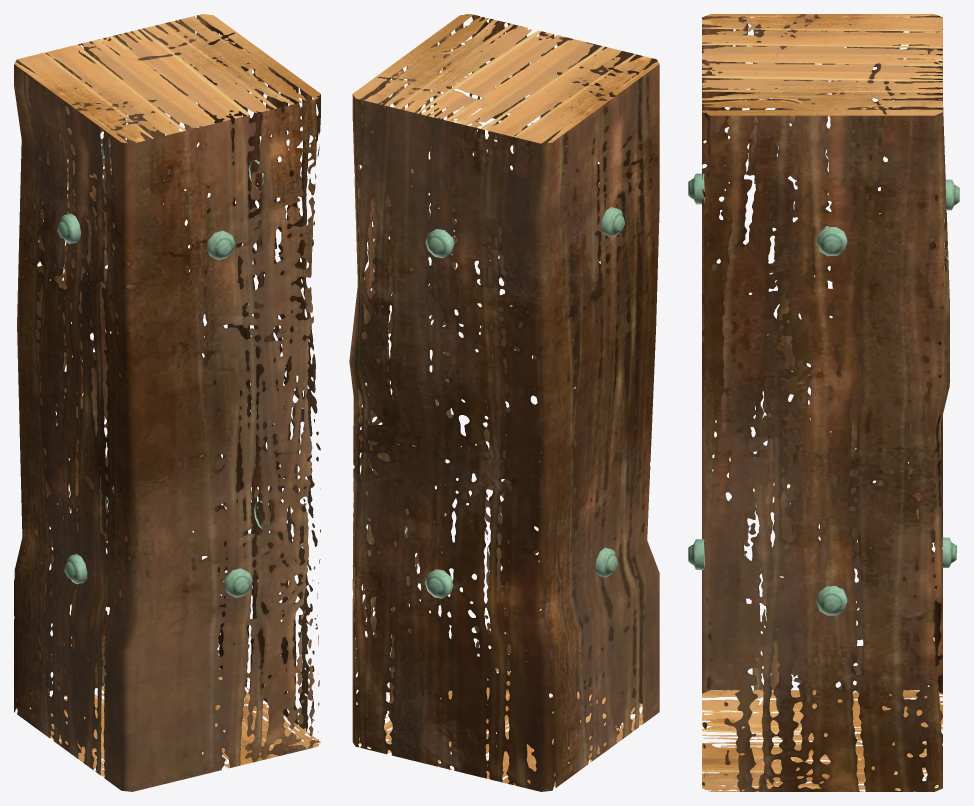
3 renders of one model, left to right at view 1: azimuth 30°, elevation 25°; view 2: azimuth 150°, elevation 25°; view 3: azimuth 270°, elevation 25°, orthographic. The views are drawn at different scales.
Parts seen in each view (by area): view 1: SM_BB_T4_Beam_Thick_Med_Vertical_LOD0; view 2: SM_BB_T4_Beam_Thick_Med_Vertical_LOD0; view 3: SM_BB_T4_Beam_Thick_Med_Vertical_LOD0.
Part boxes in pixels (left/top/right/bottom): SM_BB_T4_Beam_Thick_Med_Vertical_LOD0: left=14, top=14, right=320, bottom=791; SM_BB_T4_Beam_Thick_Med_Vertical_LOD0: left=349, top=14, right=659, bottom=791; SM_BB_T4_Beam_Thick_Med_Vertical_LOD0: left=688, top=14, right=959, bottom=791.
Bounding box in the file's own units: 0.5435 × 1.51 × 0.5492.
Materials: 2 (2 with a texture image).
